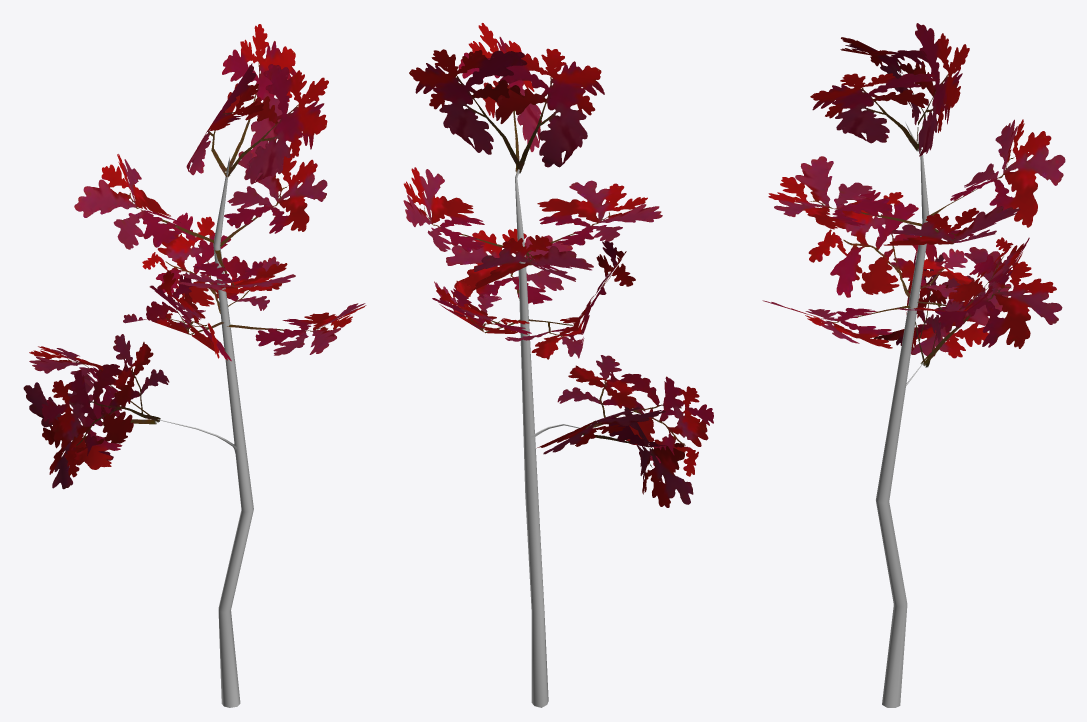
3 views of the same model, side by side, from view 1: azimuth 30°, elevation 25°; view 2: azimuth 150°, elevation 25°; view 3: azimuth 270°, elevation 25° (orthographic). The views are drawn at different scales.
Parts seen in each view (by area): view 1: SM_BM_Oak_Tree_Sapling_01_LOD0; view 2: SM_BM_Oak_Tree_Sapling_01_LOD0; view 3: SM_BM_Oak_Tree_Sapling_01_LOD0.
Part boxes in pixels (box(x1,y1,x2,y2)): SM_BM_Oak_Tree_Sapling_01_LOD0: box(23, 24, 366, 707); SM_BM_Oak_Tree_Sapling_01_LOD0: box(403, 23, 713, 707); SM_BM_Oak_Tree_Sapling_01_LOD0: box(762, 23, 1065, 707).
Bounding box in the file's own units: 0.6458 × 1.32 × 0.5531.
